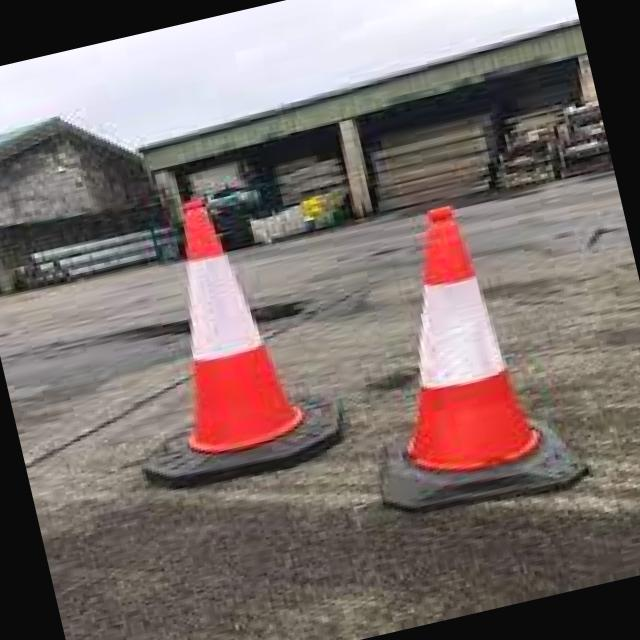cone: (342, 186, 568, 490), (126, 182, 306, 463)
